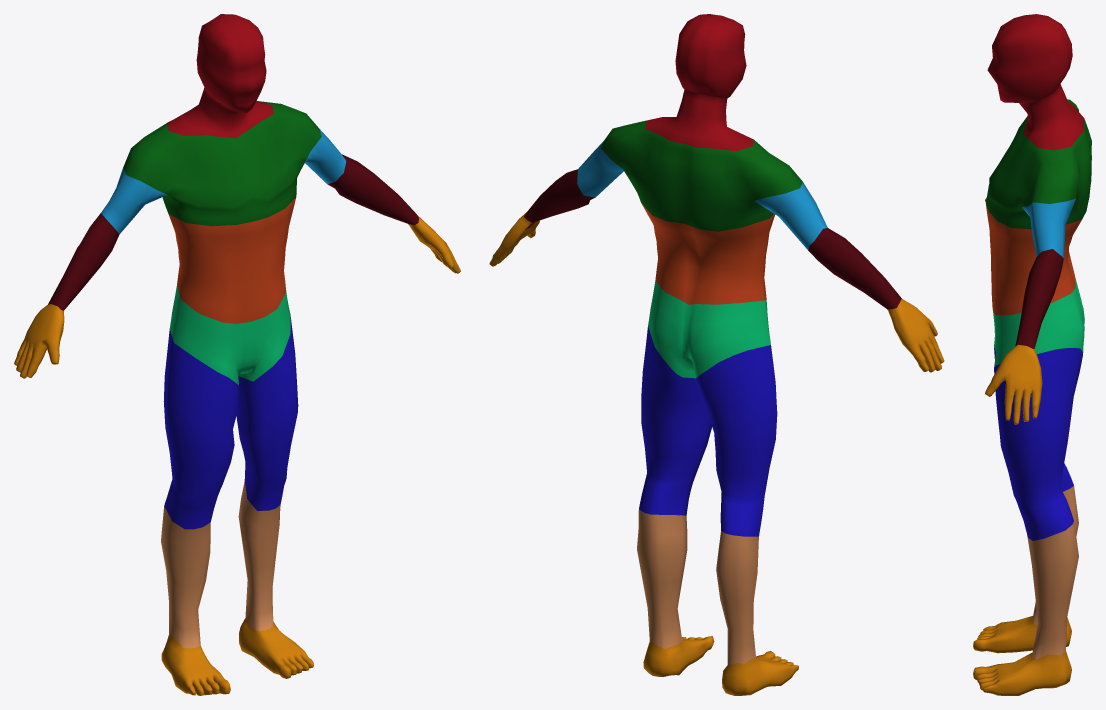
The model's file is body_7.obj.
The picture shows the model from 3 angles, left to right: view 1: azimuth 30°, elevation 25°; view 2: azimuth 150°, elevation 25°; view 3: azimuth 270°, elevation 25°; orthographic projection.
Parts seen in each view (by area): view 1: body; view 2: body; view 3: body.
Boxes of the visible parts, x1,y1,x2,y2 form: body: (14, 14, 460, 695); body: (489, 14, 944, 695); body: (973, 14, 1091, 695).
Bounding box in the file's own units: 1.24 × 1.76 × 0.2902.
